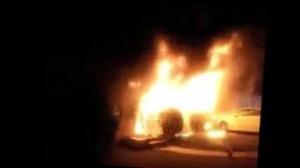Fire: (130, 29, 244, 138)
